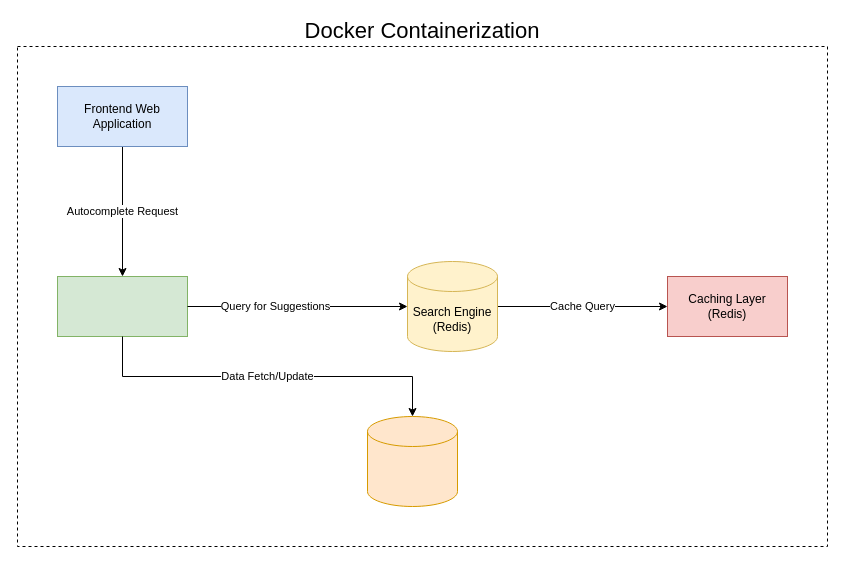
The diagram is 845 pixels wide and 564 high, and some of its shapes have lost their labels. Here are the shapes that lost their labels. From the top down, the centre of each, then its label:
At point (122, 306): "Backend API Server (Python Flask/Django)".
At point (412, 461): "Data Storage (PostgreSQL)".
